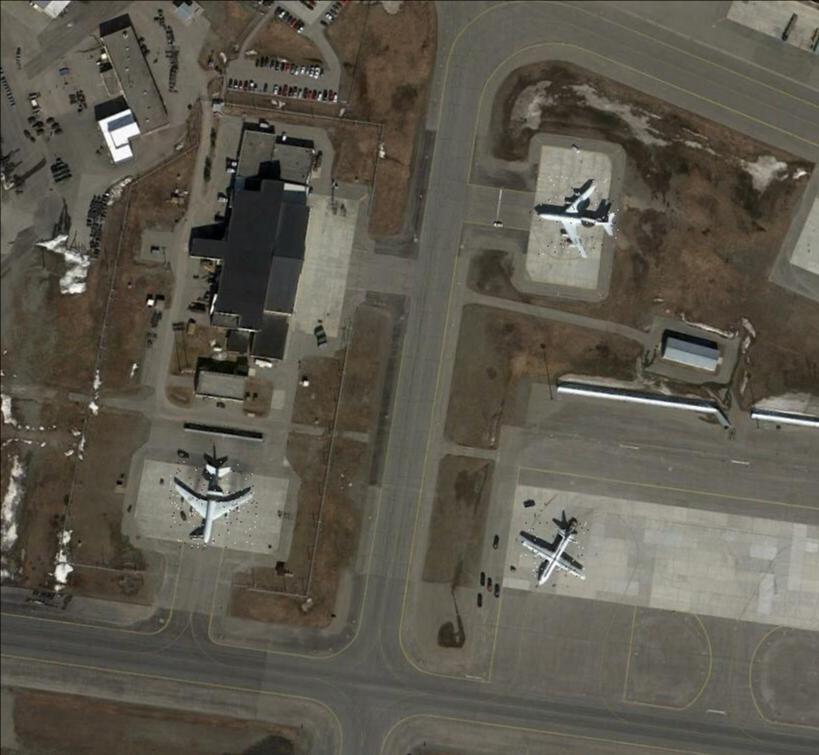A2: (519, 522, 588, 584)
A7: (169, 460, 257, 548), (538, 175, 619, 254)
